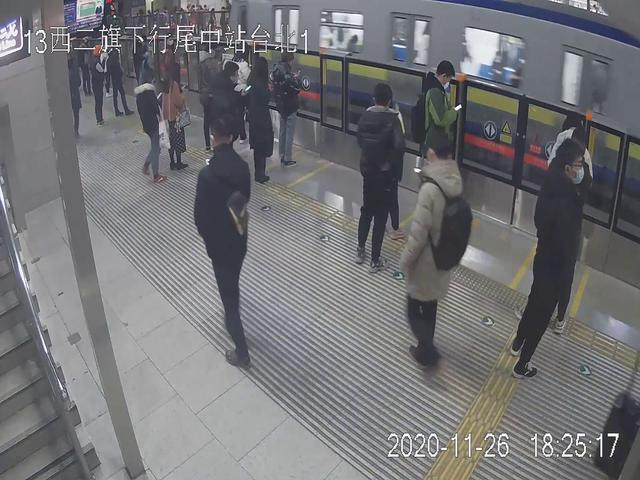person: (516, 138, 585, 382), (194, 115, 254, 368), (398, 128, 451, 371), (351, 82, 400, 271), (417, 57, 457, 214), (246, 53, 278, 182), (273, 44, 305, 169), (134, 68, 166, 181), (161, 62, 188, 174)
